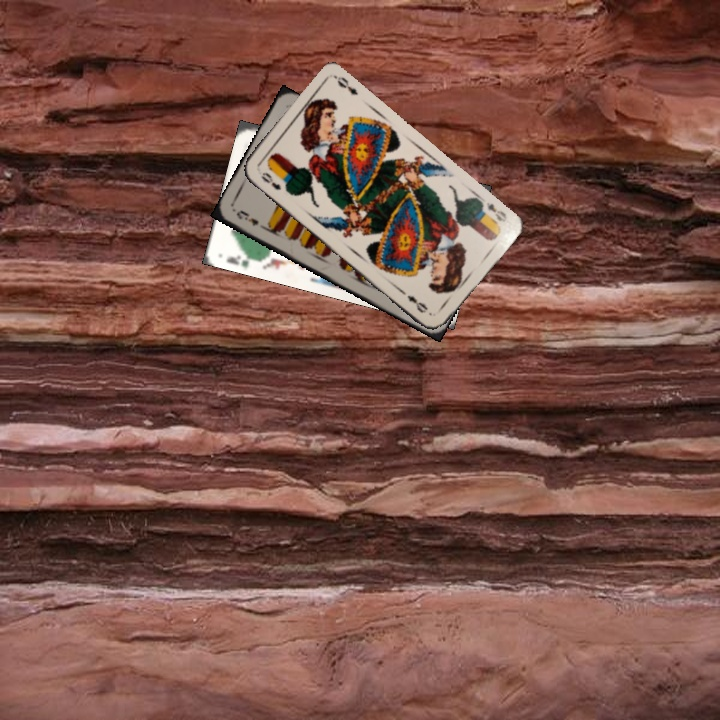E9: (232, 206, 268, 232)
EO: (482, 198, 510, 225), (257, 168, 284, 193)
GK: (222, 249, 260, 270)
